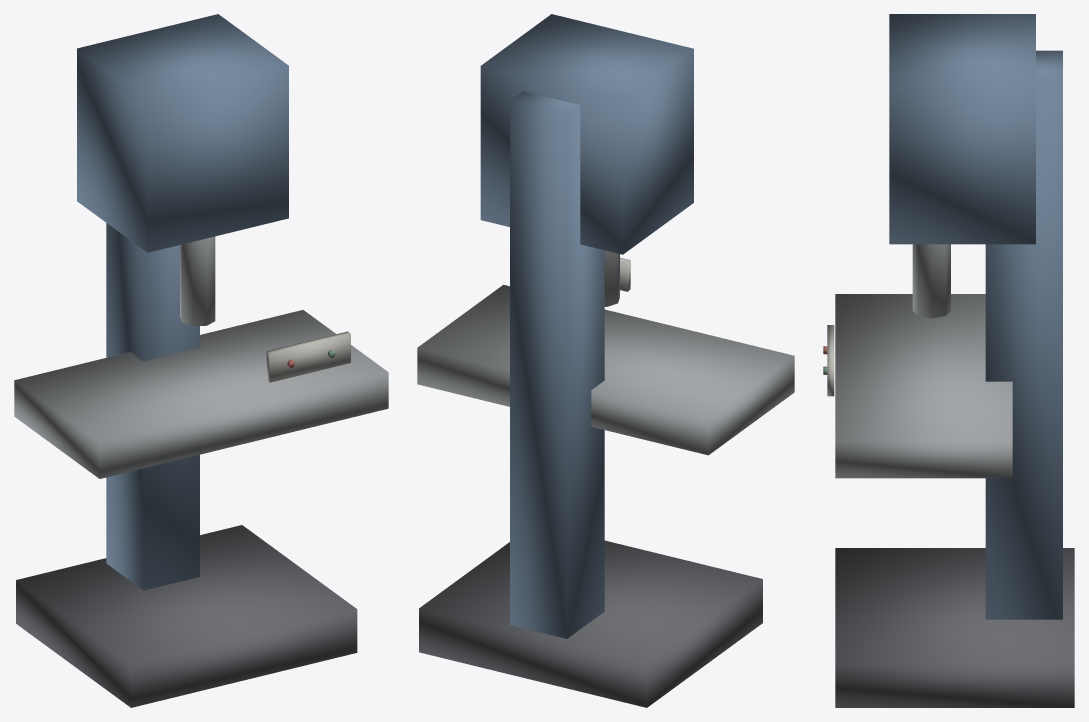
Rendered from milling_machine_silhouette__compact.glb.
3 views of the same model, side by side, from view 1: azimuth 30°, elevation 25°; view 2: azimuth 150°, elevation 25°; view 3: azimuth 270°, elevation 25° (orthographic). The views are drawn at different scales.
Visible parts, largest first — view 1: world; view 2: world; view 3: world.
Part boxes in pixels (x1,y1,x2,y2): world: (14, 14, 388, 707); world: (417, 14, 794, 707); world: (823, 14, 1074, 707).
Bounding box in the file's own units: 0.7728 × 1.48 × 0.5599.
